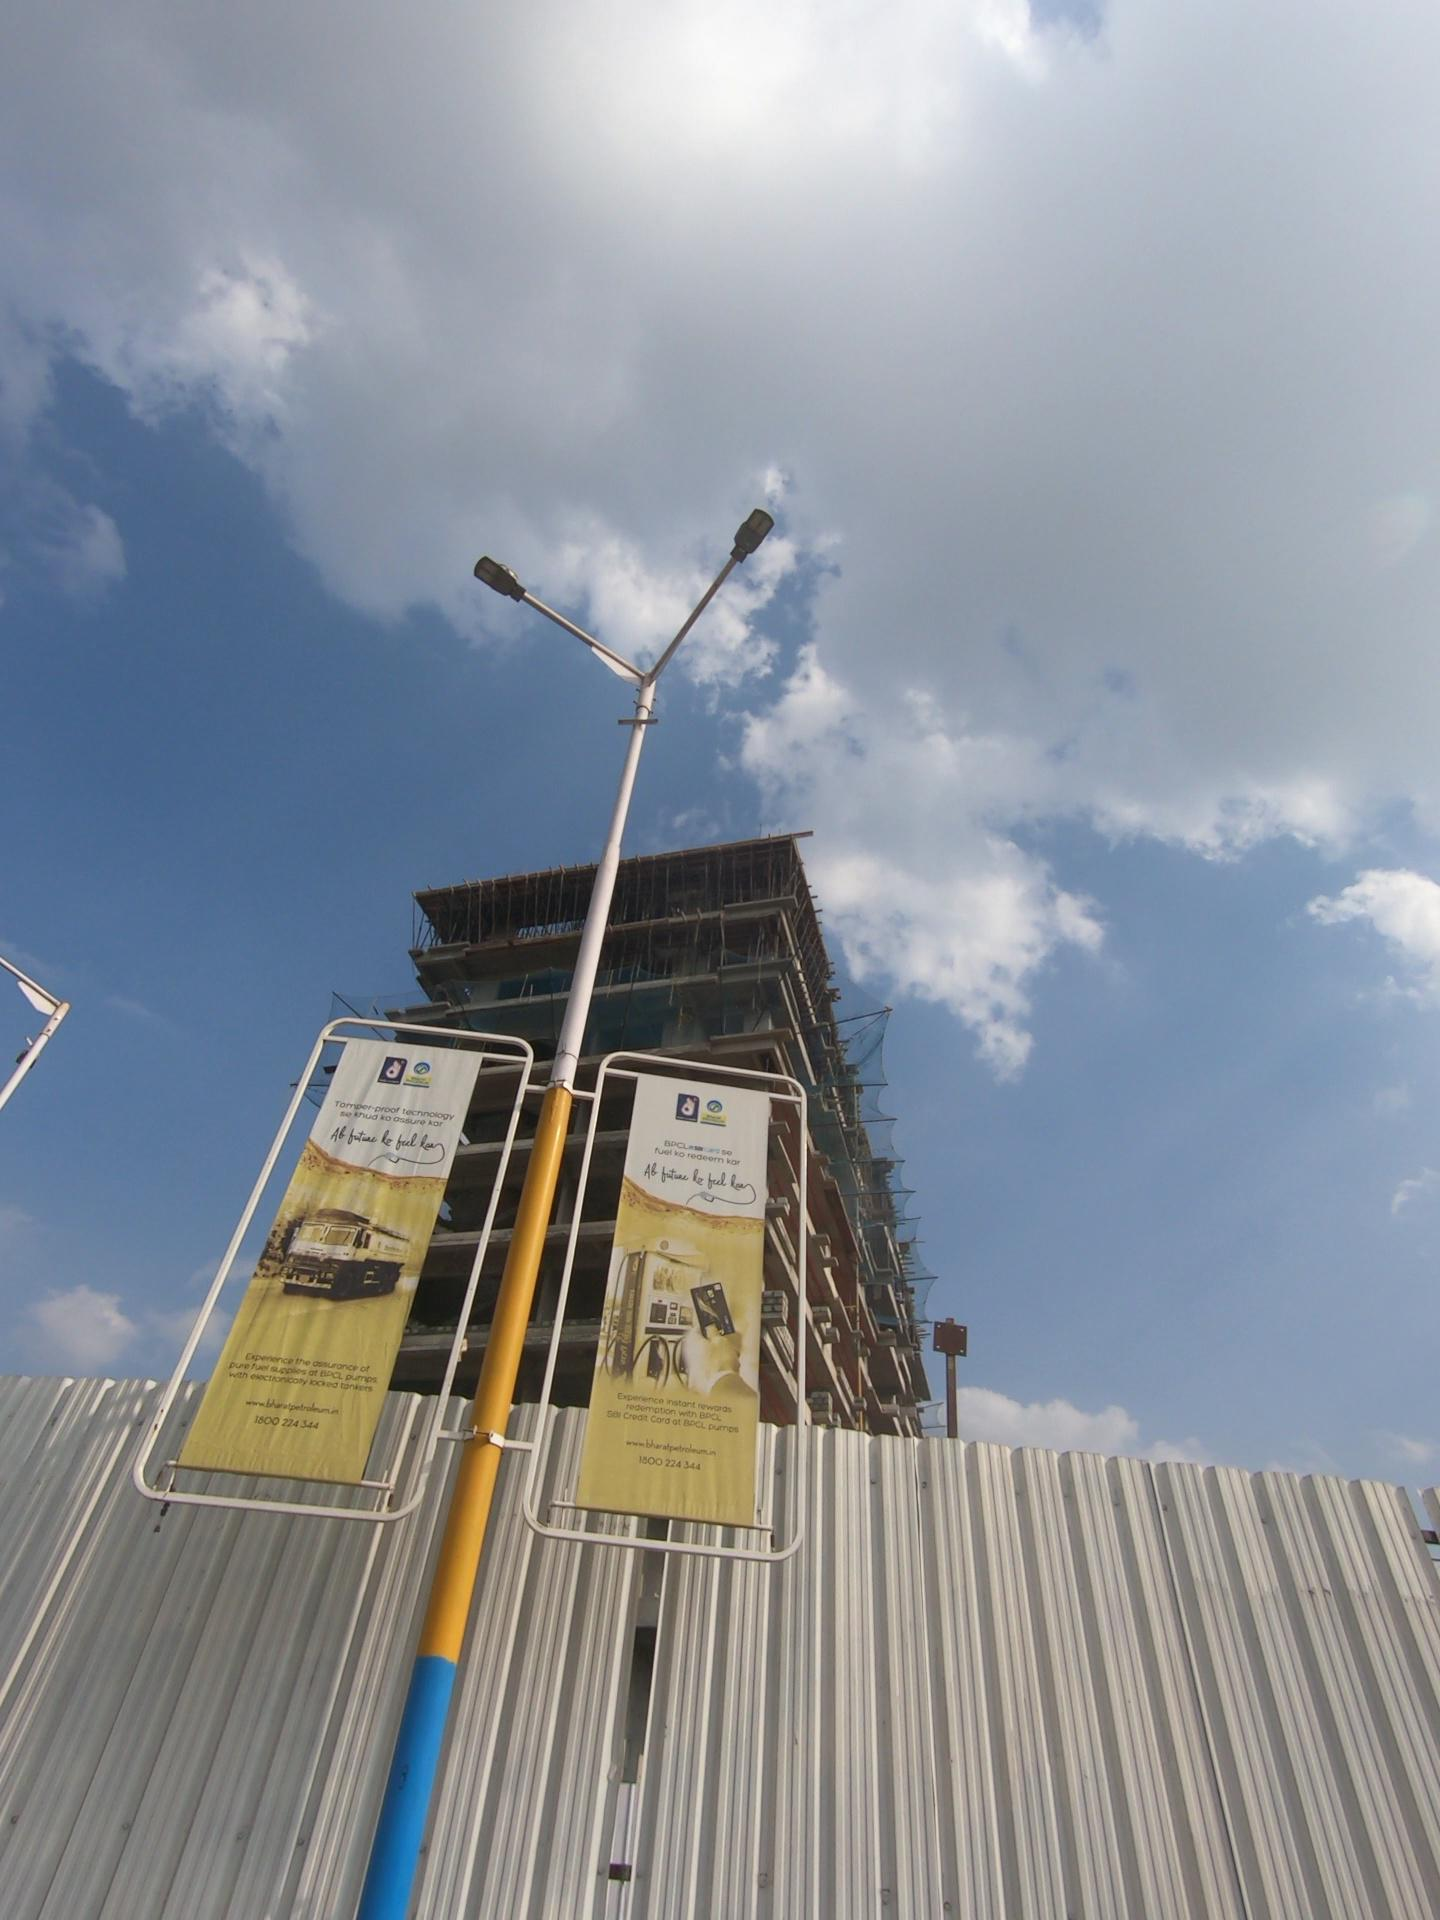off: (410, 457, 827, 652)
